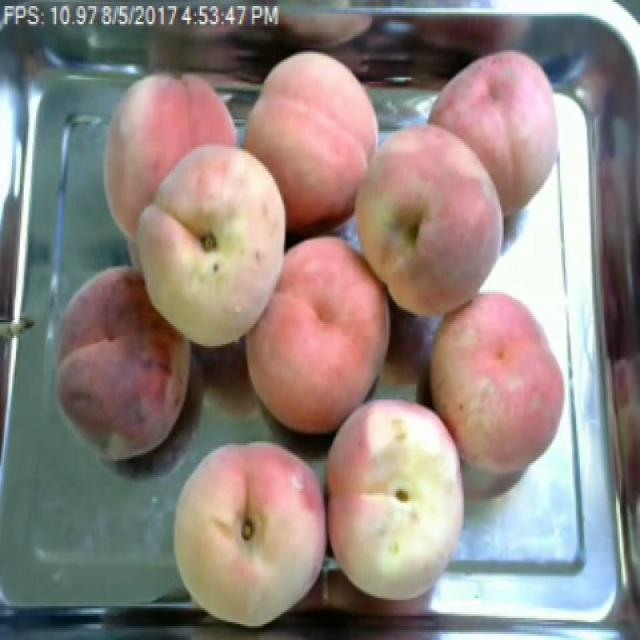Fruit: (336, 109, 519, 330), (125, 135, 300, 356), (235, 225, 405, 447), (324, 384, 480, 612), (412, 278, 580, 487), (40, 256, 203, 471), (164, 429, 329, 636), (236, 41, 393, 232), (422, 38, 574, 228), (96, 66, 248, 242)
